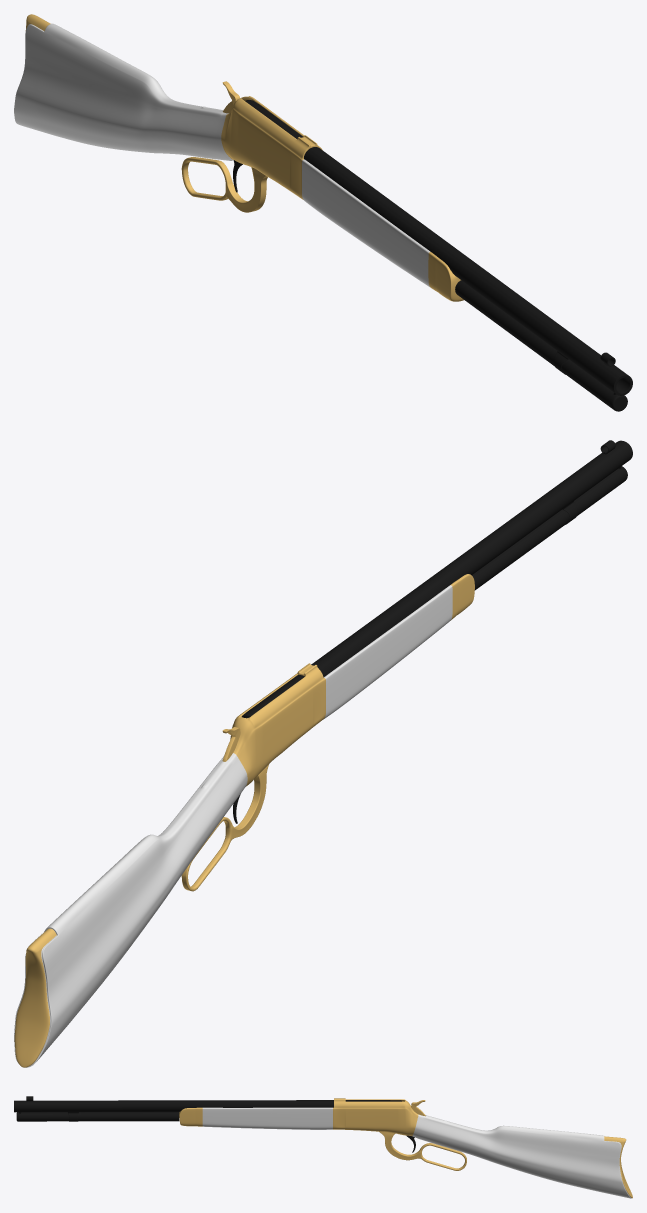
File: Riffle.fbx
3 renders of one model, top to bottom at view 1: azimuth 30°, elevation 25°; view 2: azimuth 150°, elevation 25°; view 3: azimuth 270°, elevation 25°, orthographic. The views are drawn at different scales.
Visible parts, largest first — view 1: Winchester 1886; view 2: Winchester 1886; view 3: Winchester 1886.
Part boxes in pixels (<box>): Winchester 1886: <box>14,14,632,411</box>; Winchester 1886: <box>14,440,632,1067</box>; Winchester 1886: <box>14,1096,632,1198</box>.
Size of the model in its own units: 0.0565 by 0.2954 by 1.63.
